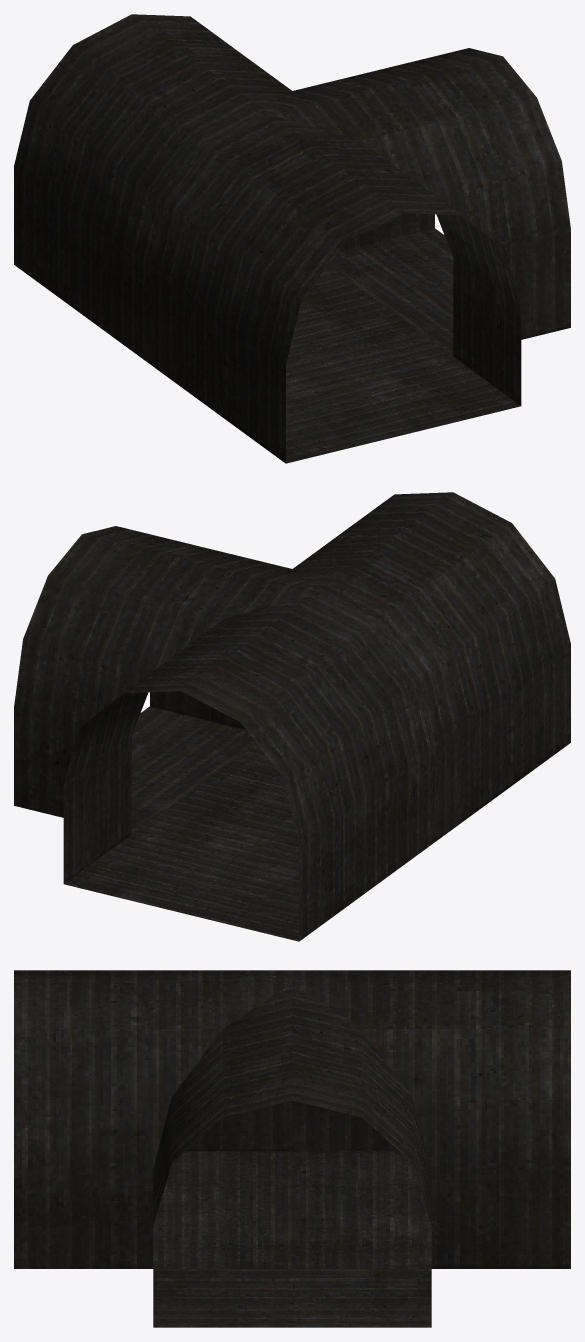
Rendered from tunnel_1_equal_tee.glb.
The picture shows the model from 3 angles, top to bottom: view 1: azimuth 30°, elevation 25°; view 2: azimuth 150°, elevation 25°; view 3: azimuth 270°, elevation 25°; orthographic projection. The views are drawn at different scales.
Parts seen in each view (by area): view 1: tunnel_1_equal_tee; view 2: tunnel_1_equal_tee; view 3: tunnel_1_equal_tee.
Part boxes in pixels (bbox=[...]): tunnel_1_equal_tee: bbox=[14, 14, 570, 463]; tunnel_1_equal_tee: bbox=[14, 492, 570, 941]; tunnel_1_equal_tee: bbox=[14, 970, 570, 1327].
Size of the model in its own units: 3 by 1.8 by 4.
Materials: 1 (1 with a texture image).
